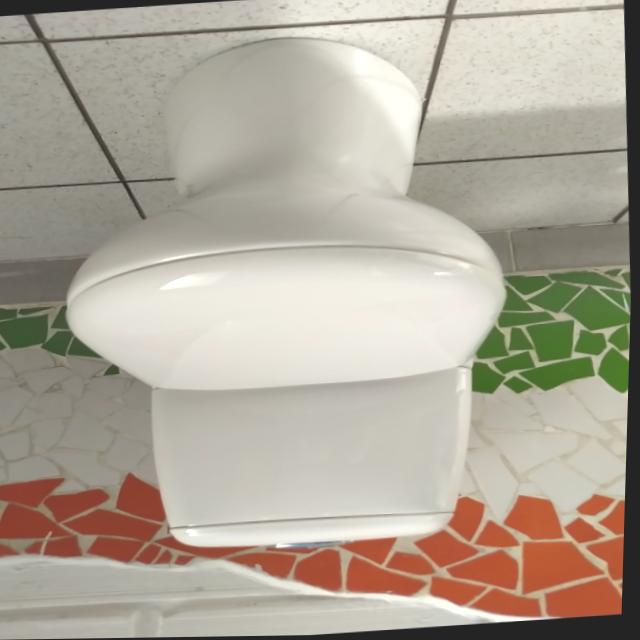toilet: (48, 25, 529, 564)
